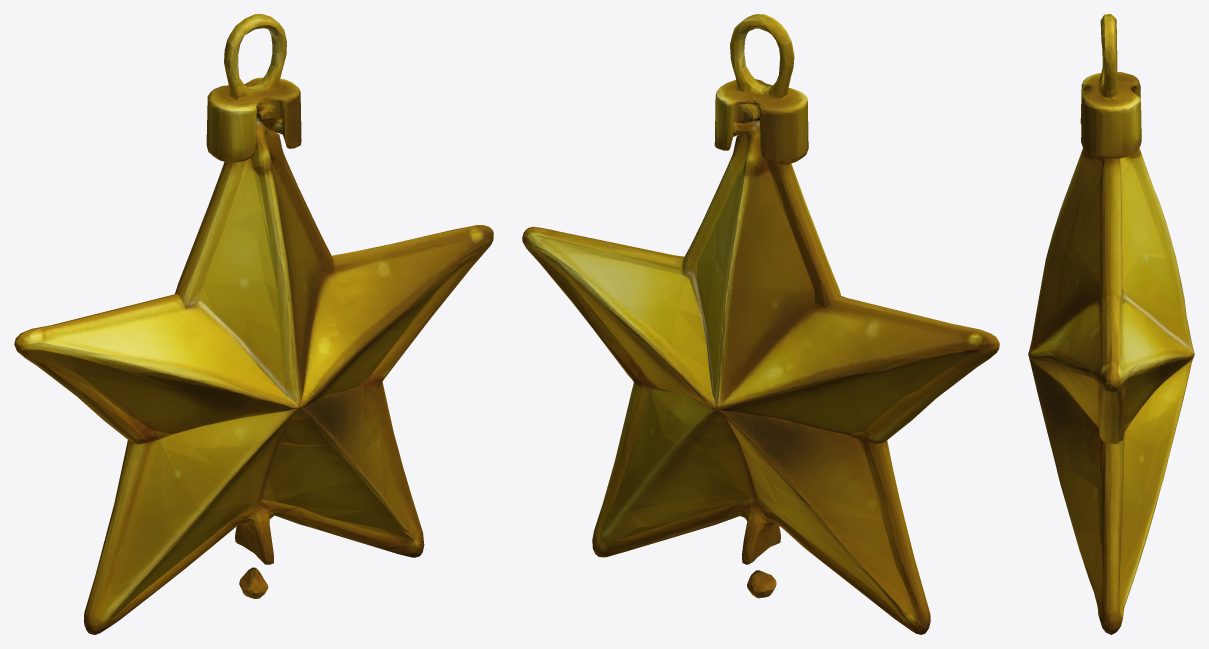
3 renders of one model, left to right at view 1: azimuth 30°, elevation 25°; view 2: azimuth 150°, elevation 25°; view 3: azimuth 270°, elevation 25°, orthographic. The views are drawn at different scales.
Visible parts, largest first — view 1: world; view 2: world; view 3: world.
Boxes of the visible parts, x1,y1,x2,y2 form: world: (14, 14, 493, 634); world: (522, 14, 999, 634); world: (1028, 14, 1194, 634).
Bounding box in the file's own units: 0.8576 × 0.9993 × 0.2767.
Materials: 1 (1 with a texture image).
